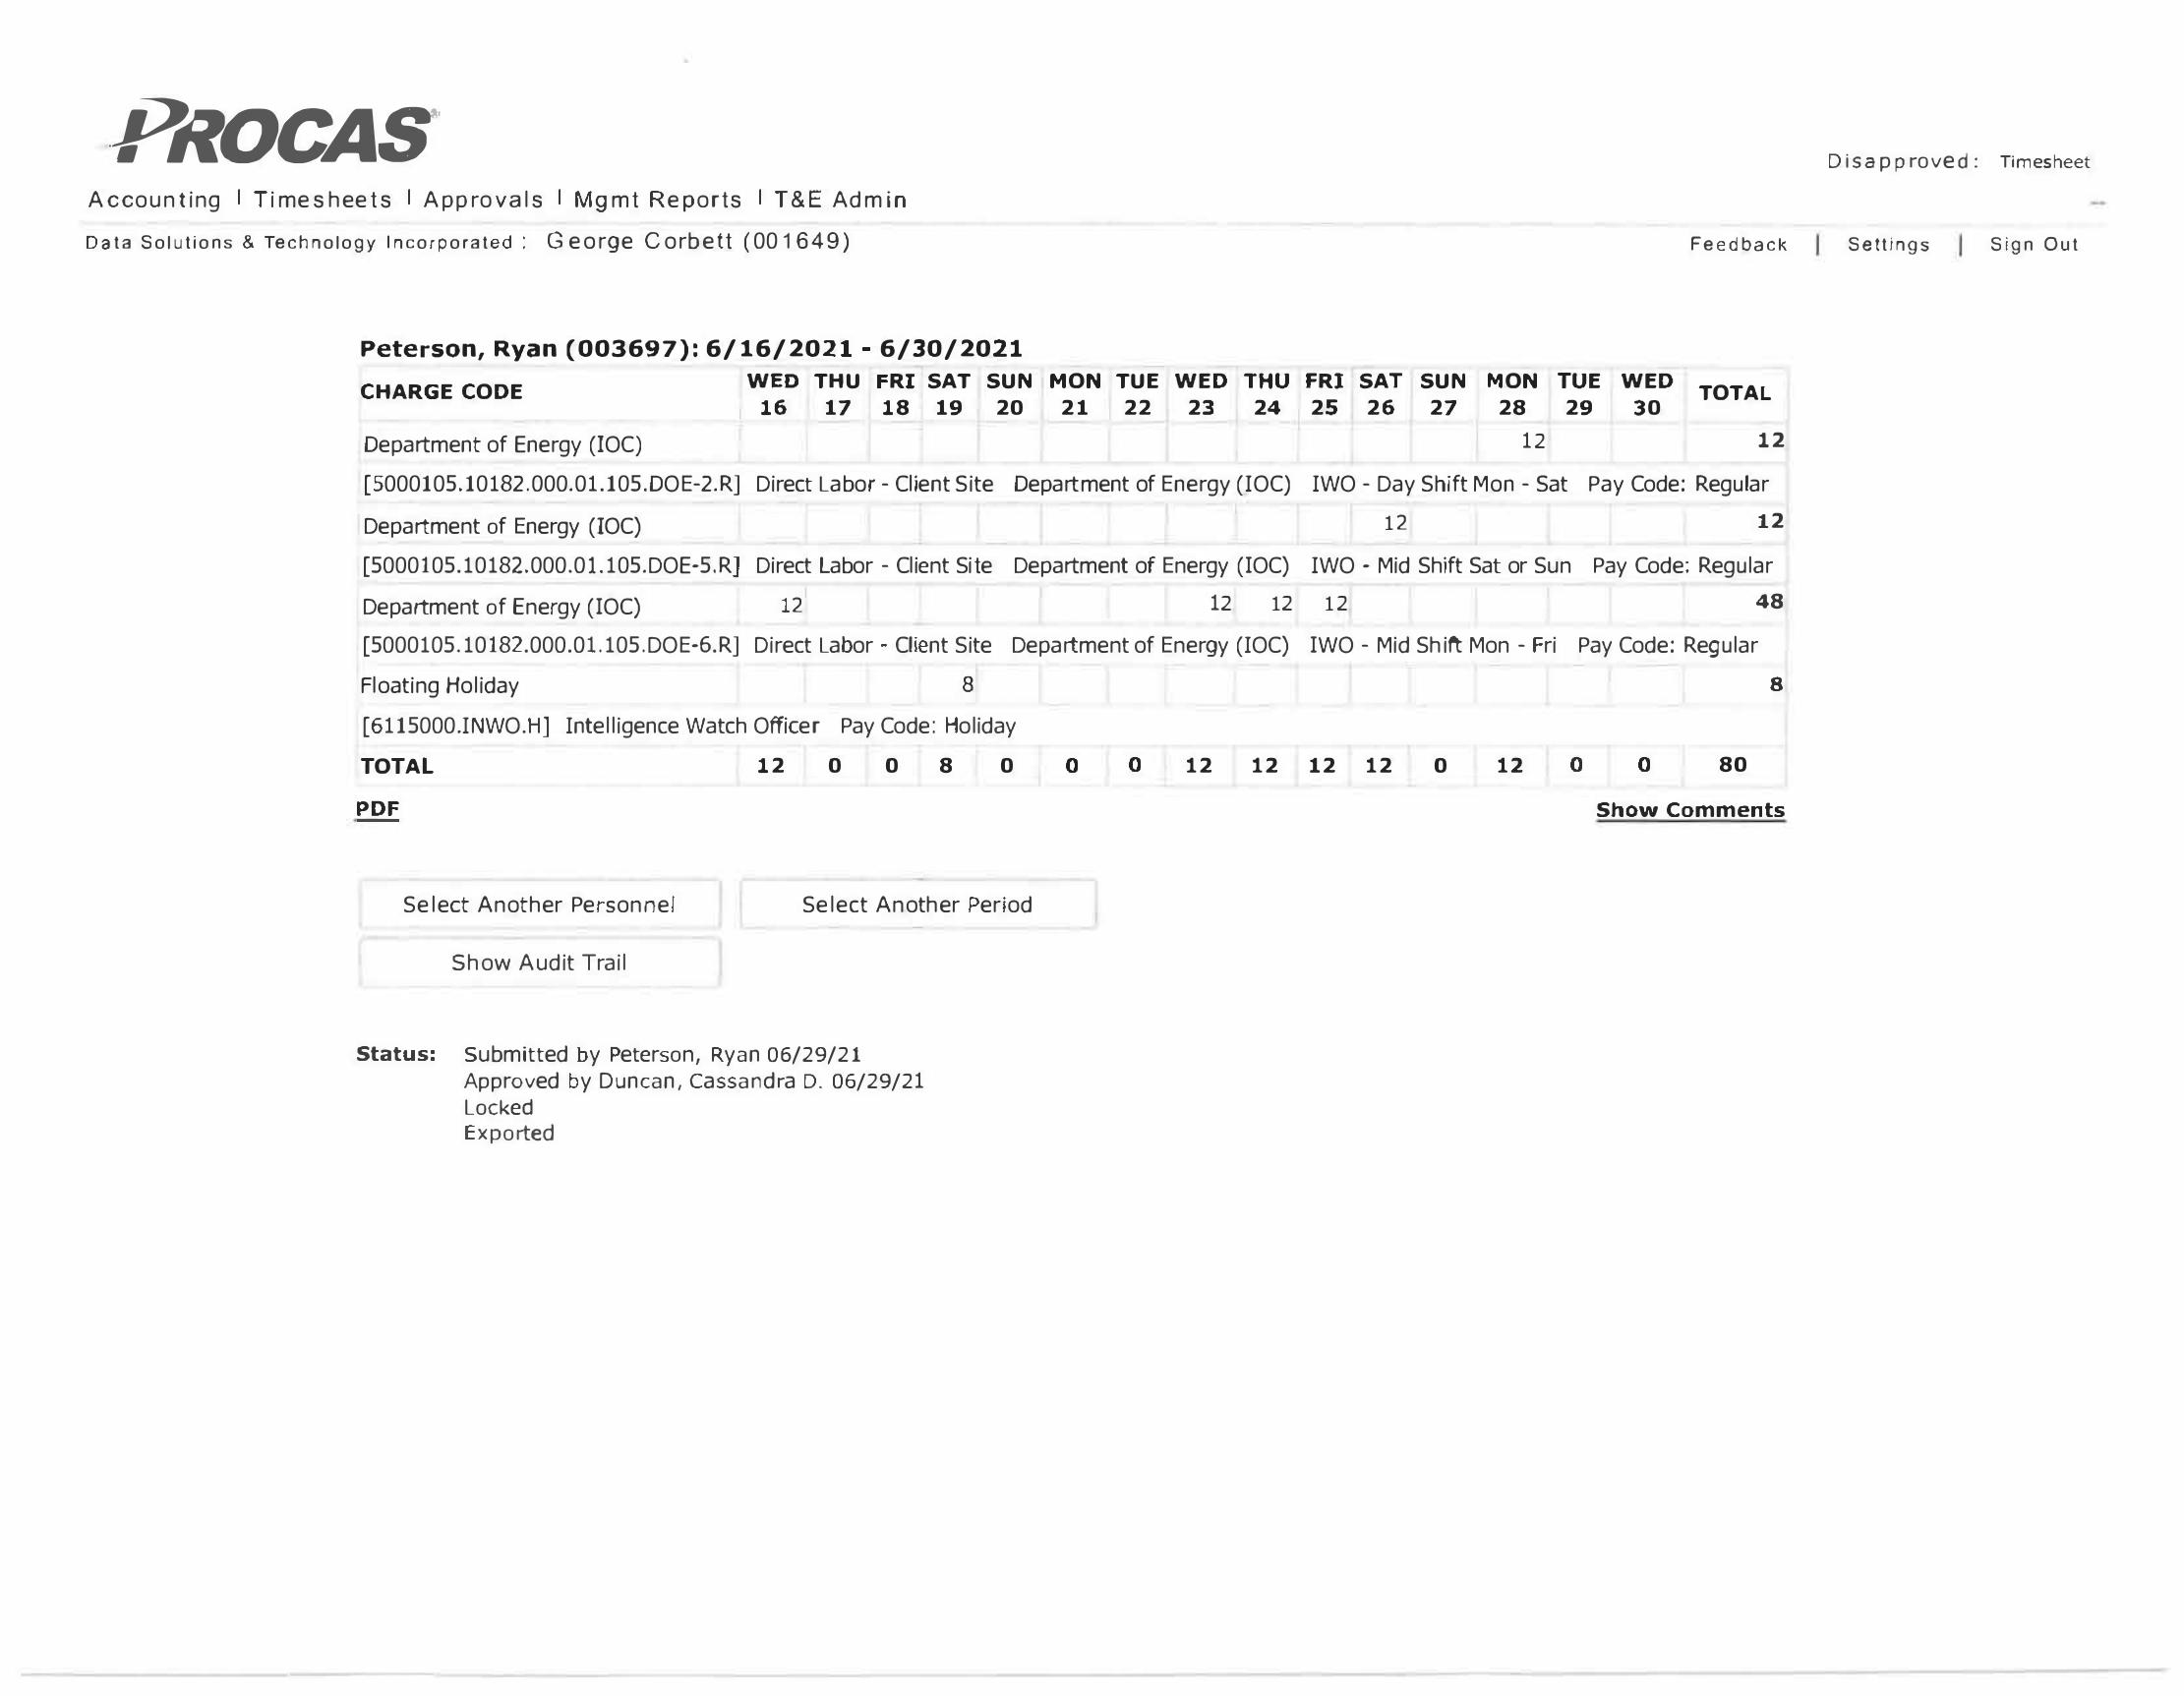table: (356, 369, 1792, 789)
